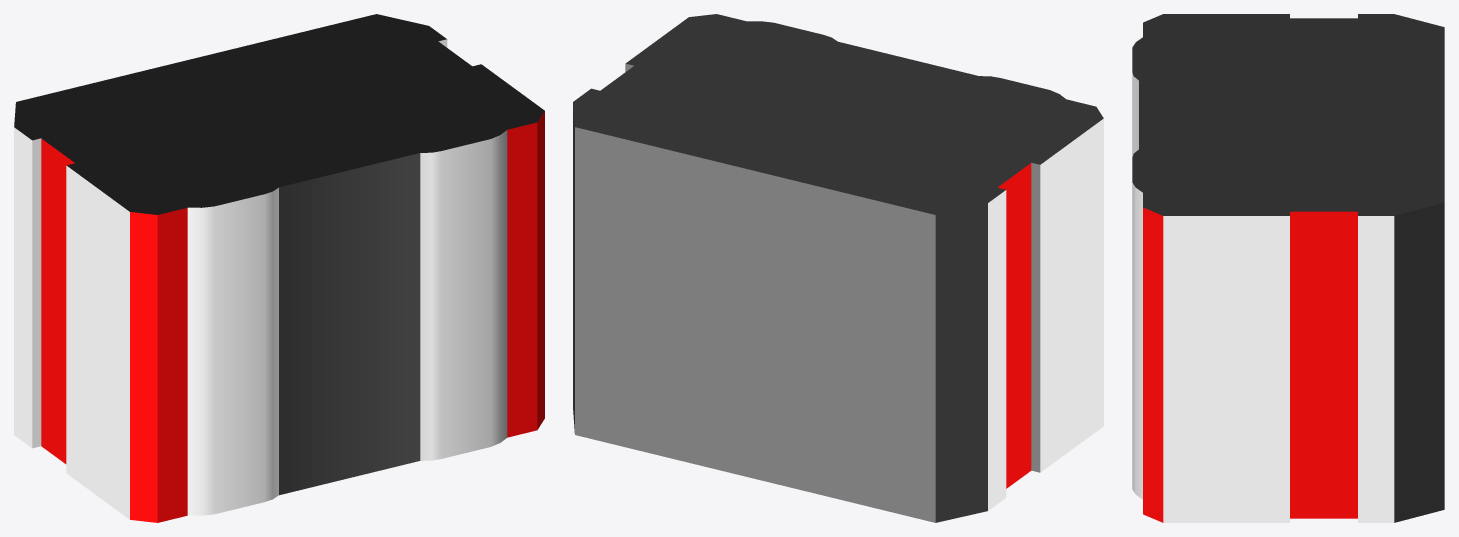
The model's file is vehicleStoreConnector.obj.
3 views of the same model, side by side, from view 1: azimuth 30°, elevation 25°; view 2: azimuth 150°, elevation 25°; view 3: azimuth 270°, elevation 25° (orthographic).
Parts seen in each view (by area): view 1: Box002; view 2: Box002; view 3: Box002.
Part boxes in pixels (x1,y1,x2,y2): Box002: [14, 14, 544, 522]; Box002: [573, 14, 1103, 522]; Box002: [1132, 14, 1444, 522].
Size of the model in its own units: 1.41 by 1 by 0.9223.
